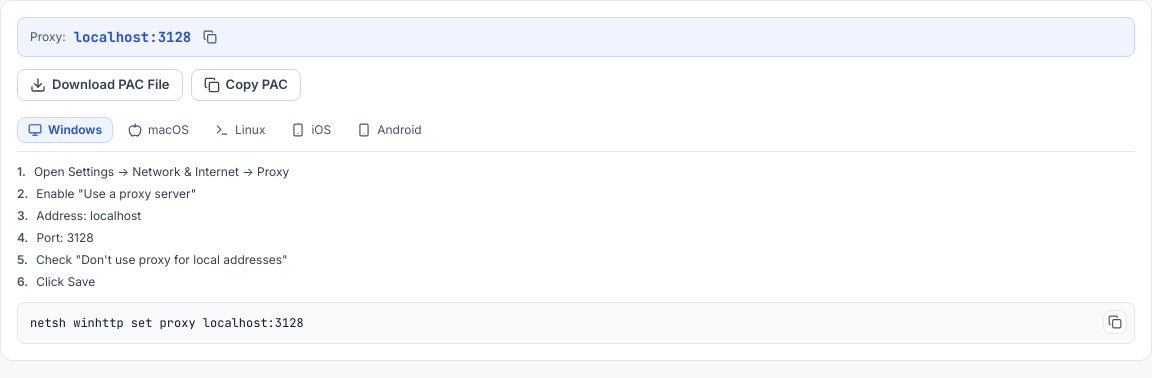
ClientSetup › shows Authentication: Username and password on iOS when enable_proxy_auth is true
The image size is (1152, 378).
What coordinates should you click on to do the following:
click the tab "iOS"
I would click on:
 (311, 130)
Its box is [280, 117, 342, 143].
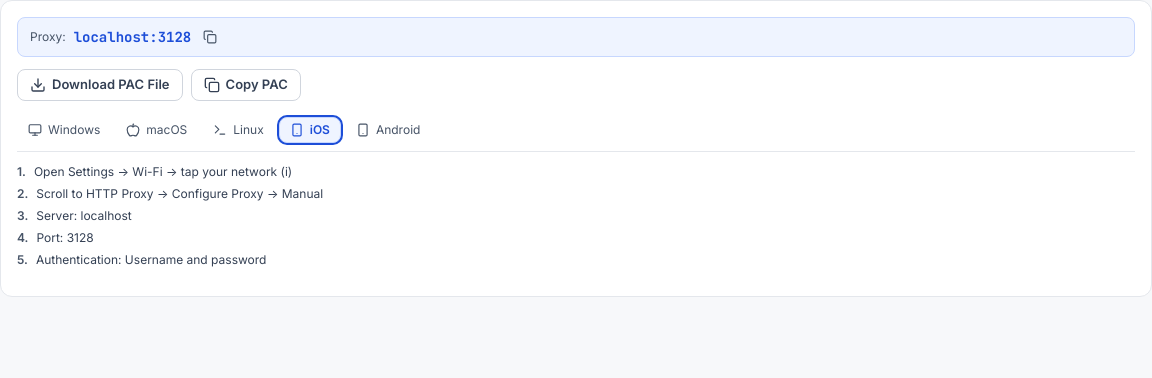
Check: the text "Authentication: Username and password" is shown, box [36, 252, 266, 268]
